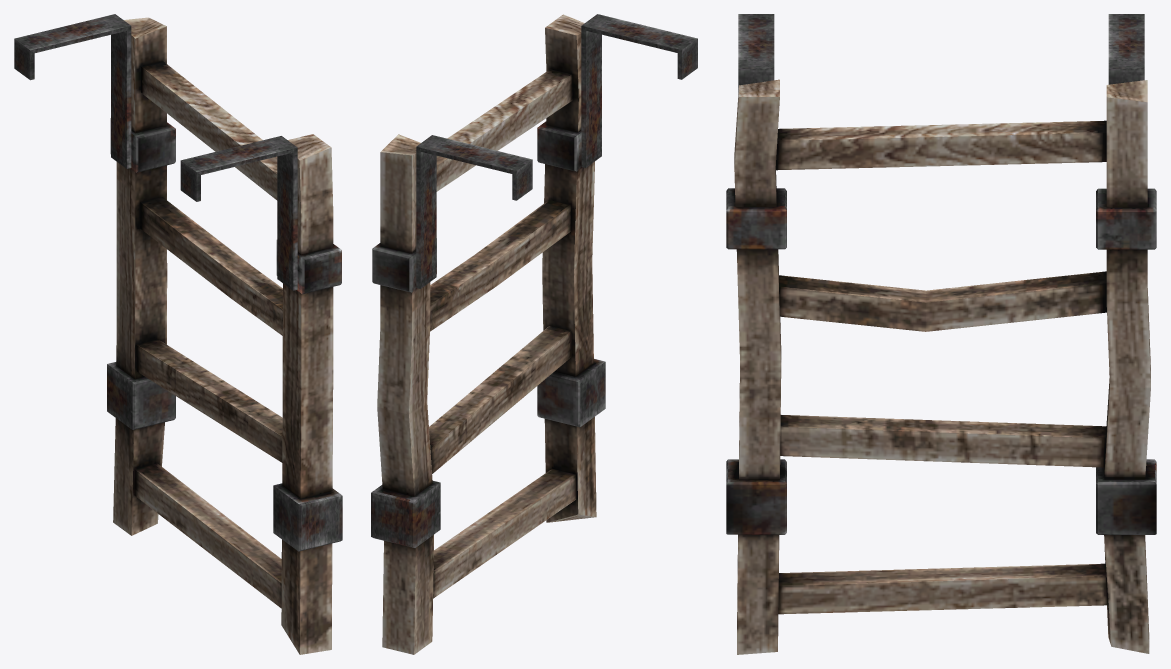
File: ladder_item.dae
The picture shows the model from 3 angles, left to right: view 1: azimuth 30°, elevation 25°; view 2: azimuth 150°, elevation 25°; view 3: azimuth 270°, elevation 25°; orthographic projection. The views are drawn at different scales.
Visible parts, largest first — view 1: polySurface2; view 2: polySurface2; view 3: polySurface2.
Boxes of the visible parts, box(x1,y1,x2,y2) form: polySurface2: box(14, 14, 342, 654); polySurface2: box(371, 14, 697, 654); polySurface2: box(726, 14, 1156, 654).
Bounding box in the file's own units: 0.4413 × 1.53 × 1.05.
